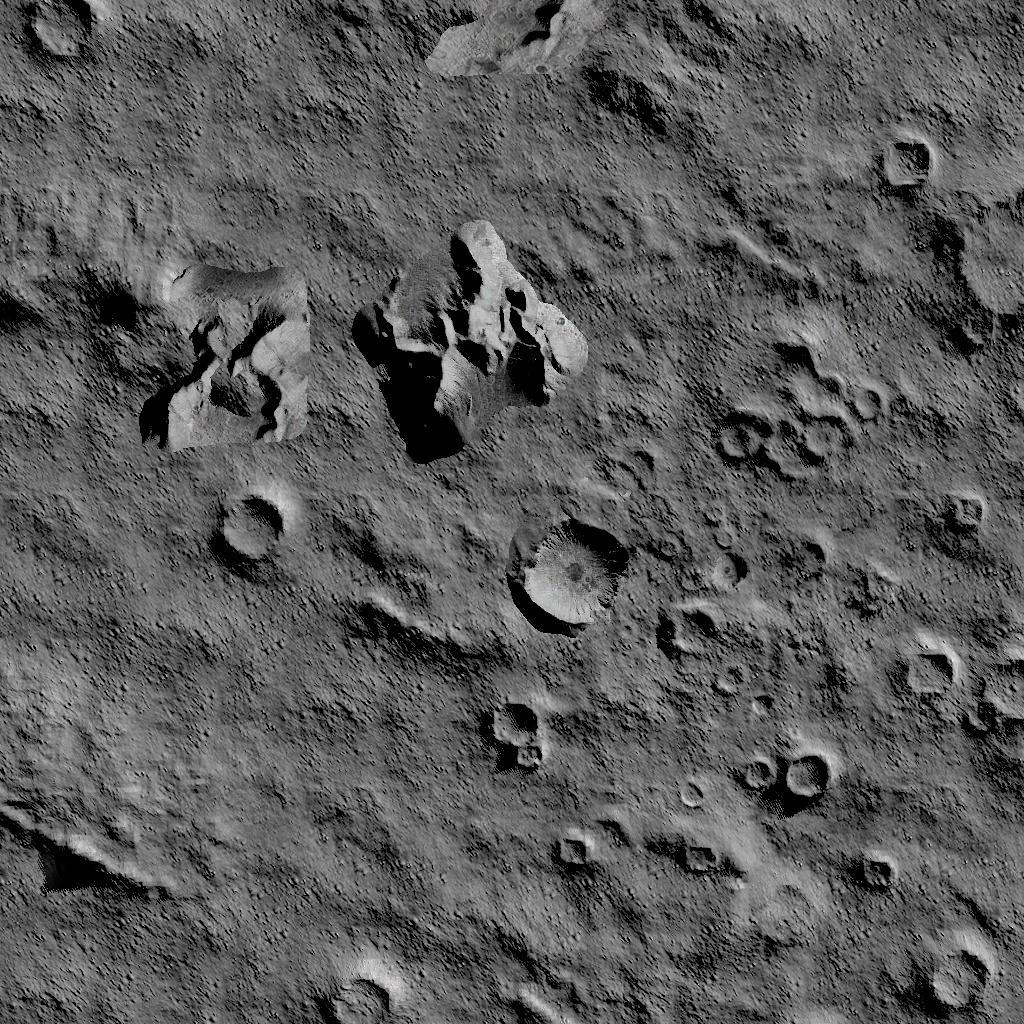Boulders: (349, 220, 589, 464), (145, 262, 315, 460), (413, 0, 605, 88)
Crater: (707, 338, 888, 480), (512, 516, 634, 634), (902, 642, 1024, 745), (951, 184, 1024, 348), (922, 936, 994, 1016), (734, 750, 838, 802), (30, 0, 110, 62), (220, 490, 288, 562), (328, 968, 404, 1024), (653, 600, 727, 655), (496, 700, 546, 772), (874, 134, 938, 190), (711, 664, 778, 716), (846, 850, 900, 894), (941, 486, 989, 532), (547, 828, 596, 870), (677, 836, 724, 878), (671, 772, 712, 812)
Plan surface: (229, 641, 488, 953), (0, 472, 215, 788), (123, 0, 333, 246)
